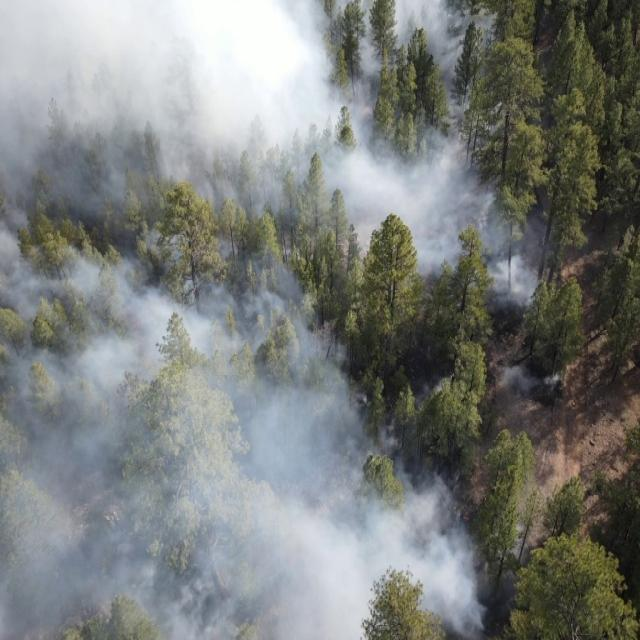smoke: (0, 0, 491, 274), (0, 226, 293, 640), (293, 467, 487, 640), (293, 392, 449, 468), (486, 192, 549, 308), (292, 293, 356, 391), (488, 525, 538, 640), (500, 362, 560, 401)
